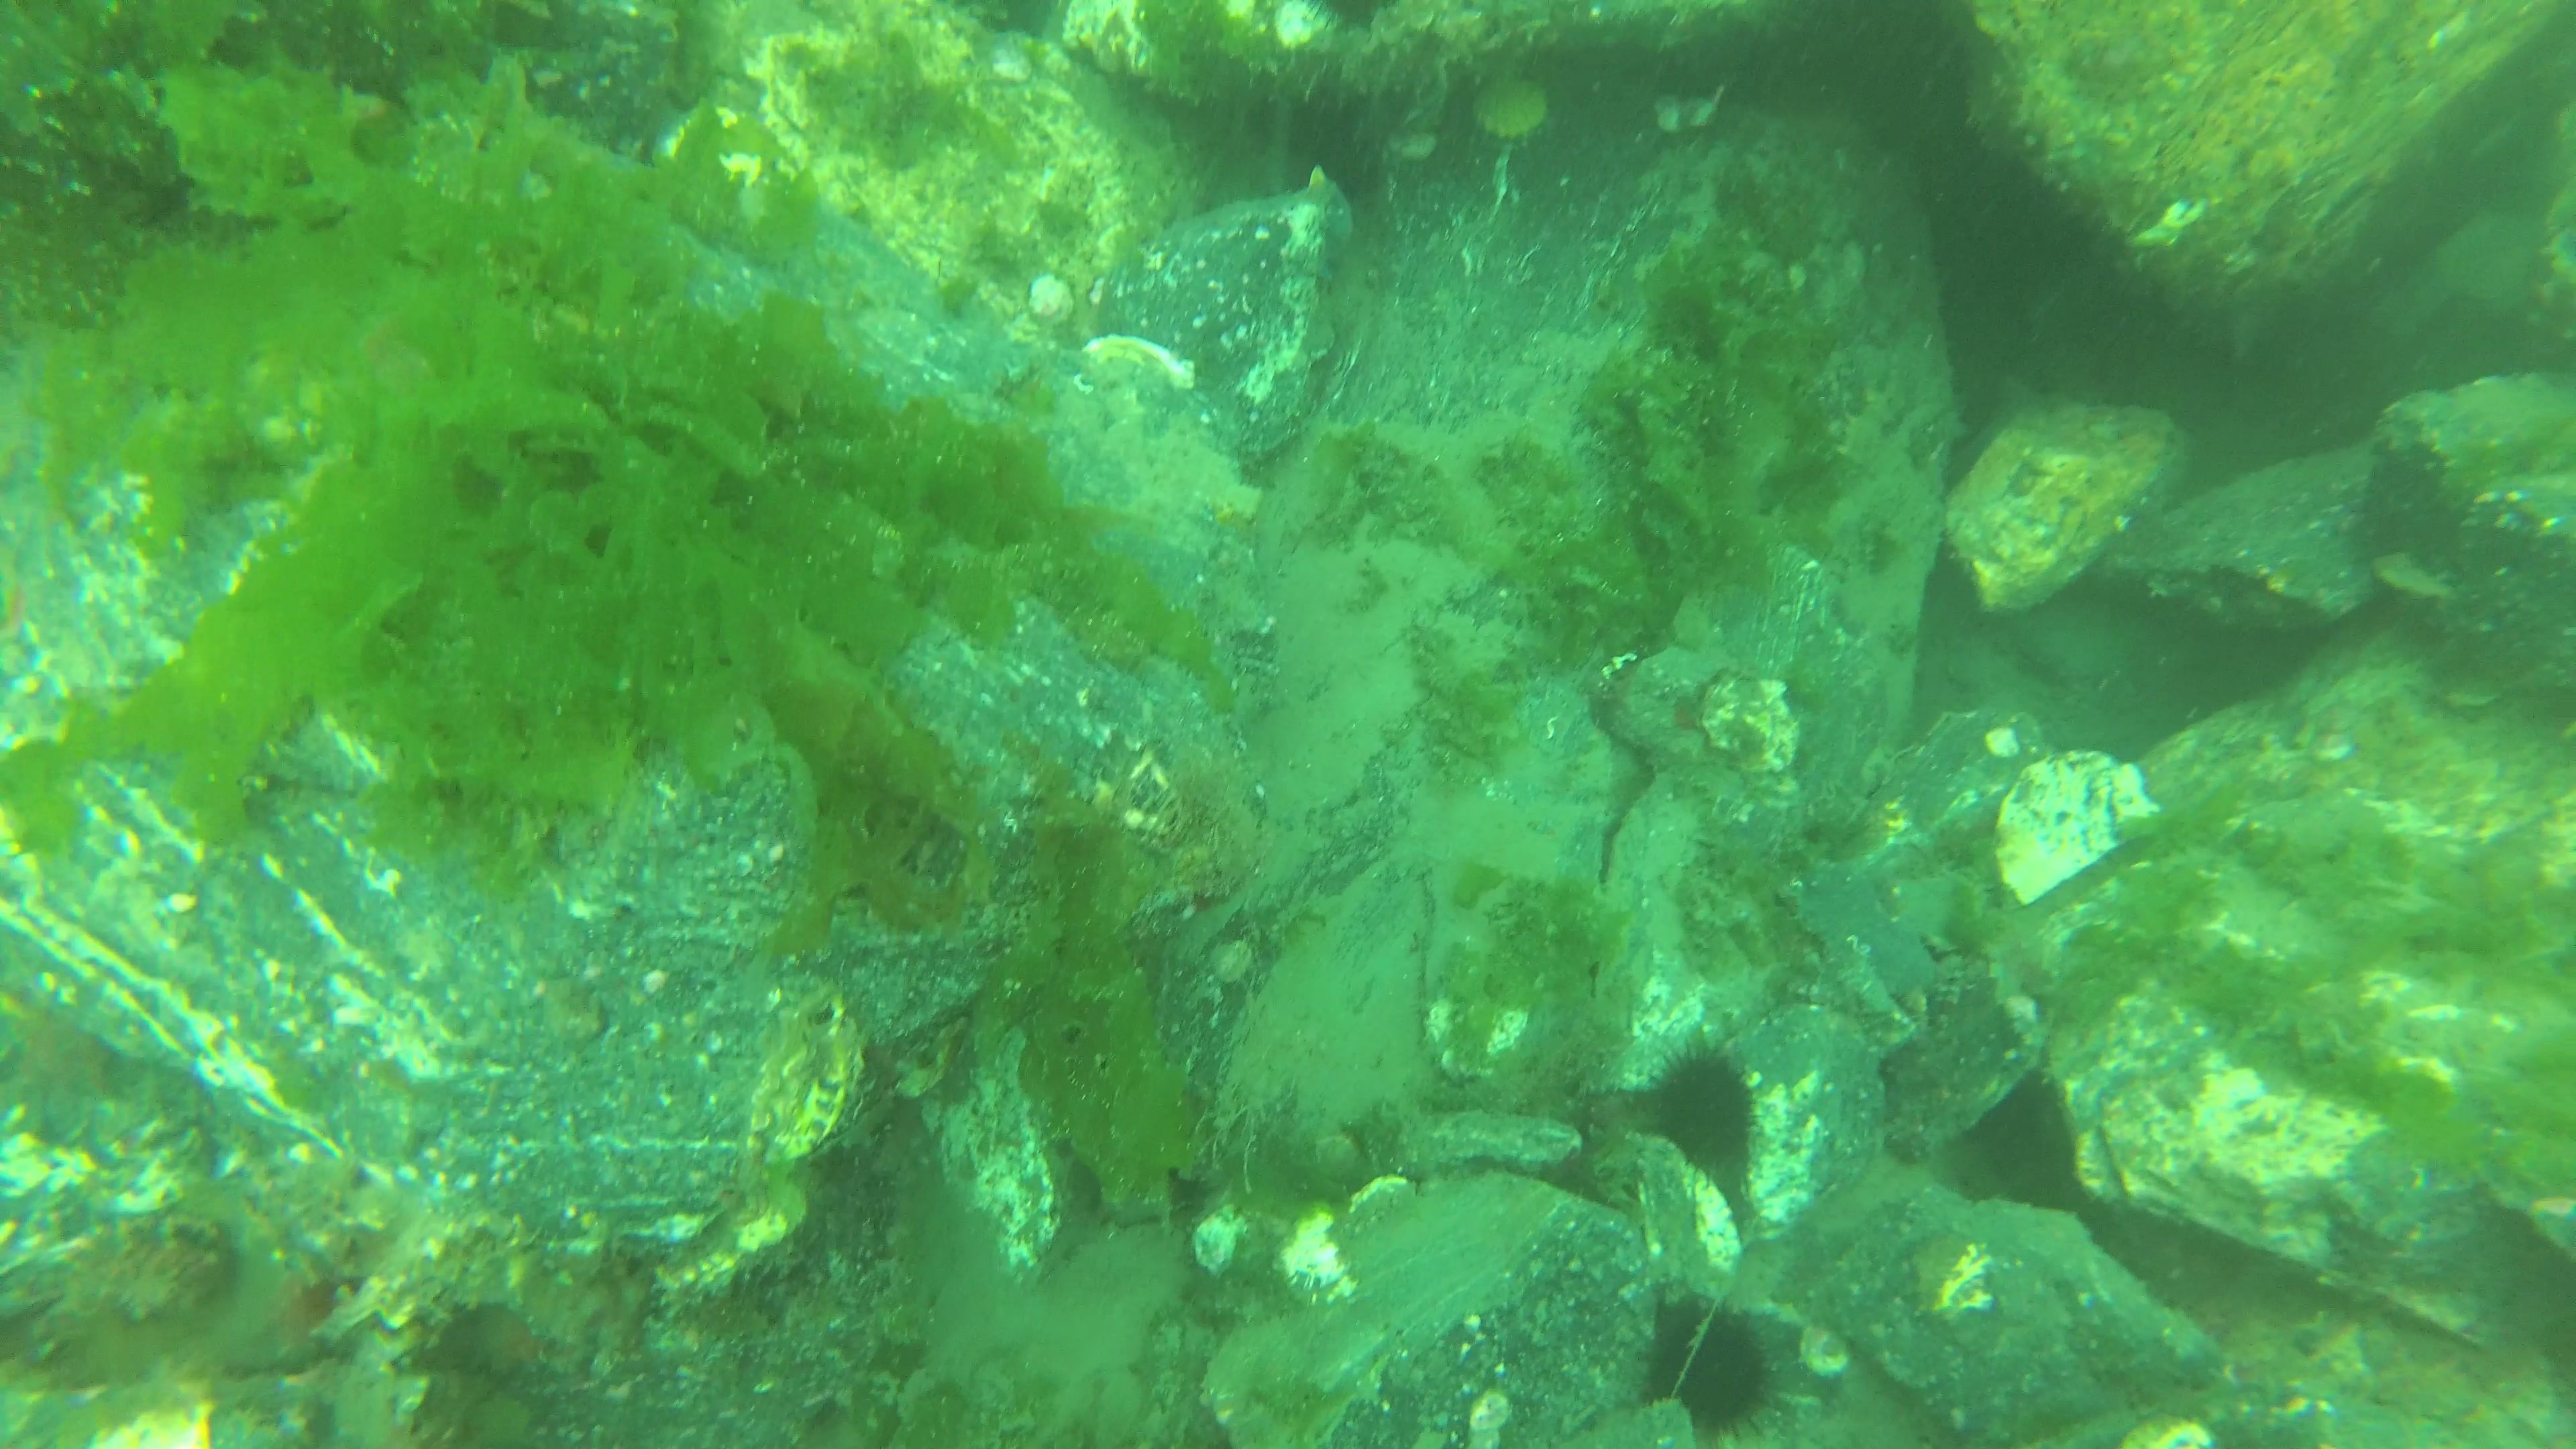echinus: (1629, 1288, 1785, 1438), (1642, 1039, 1764, 1180)
